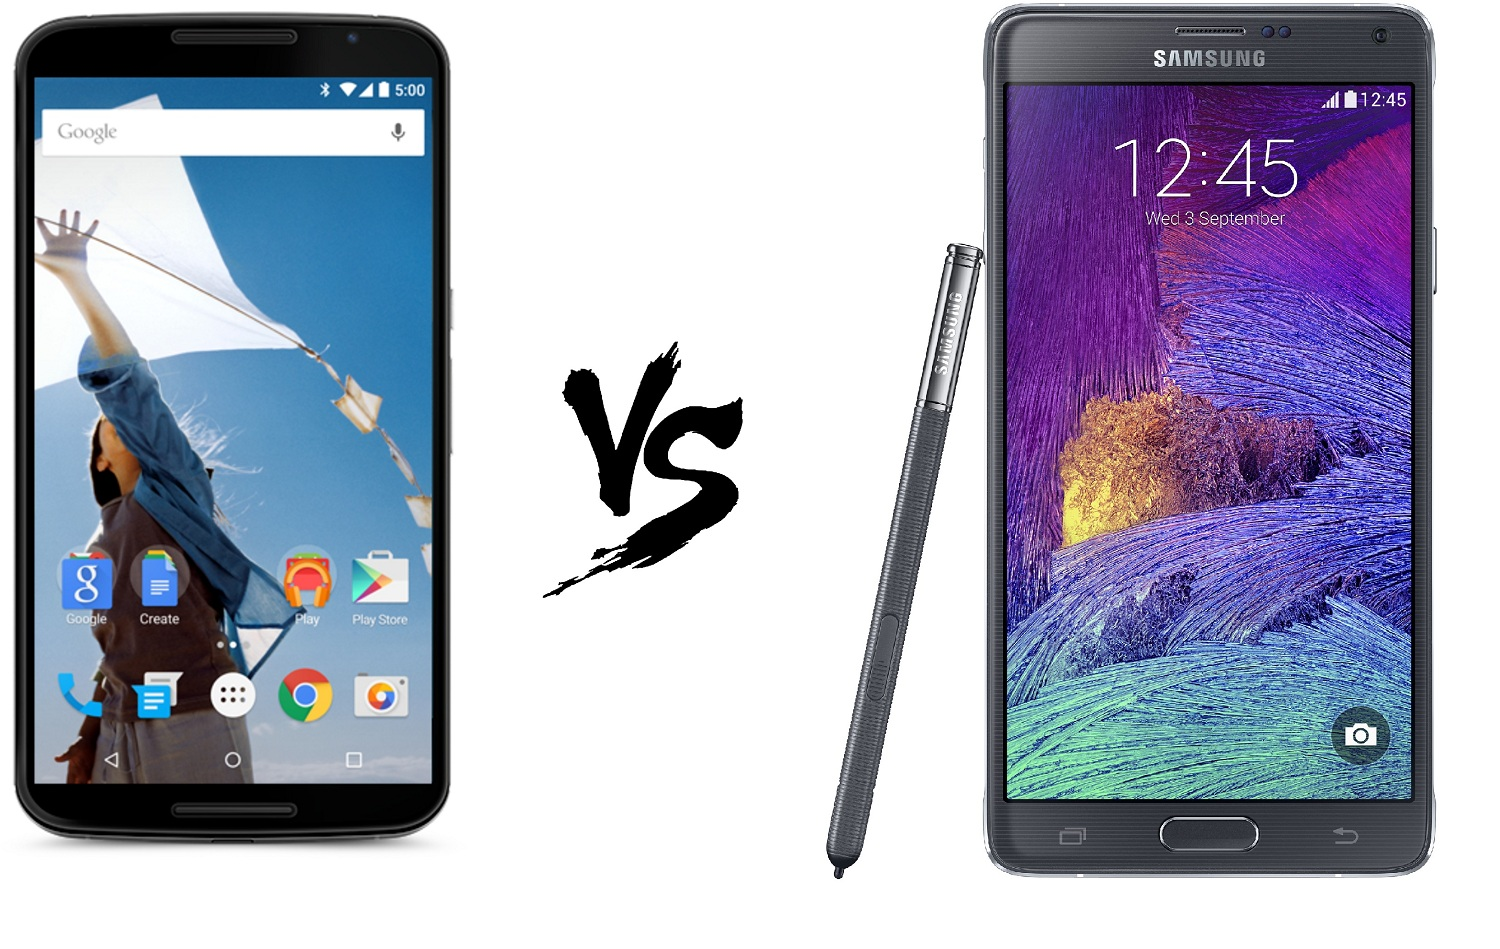smartphone: (984, 5, 1437, 881), (13, 10, 453, 842)
